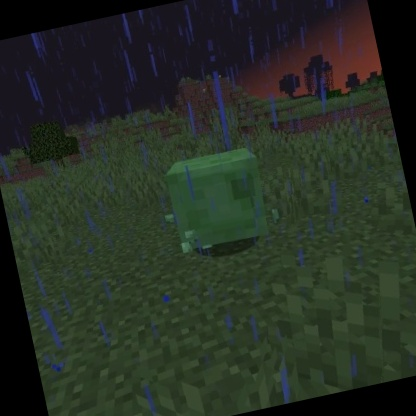slime: (157, 140, 280, 261)
